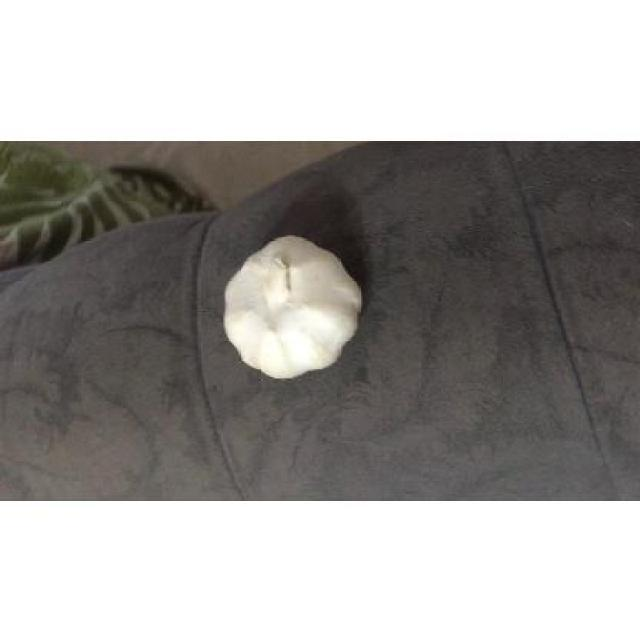garlic: (224, 235, 362, 379)
